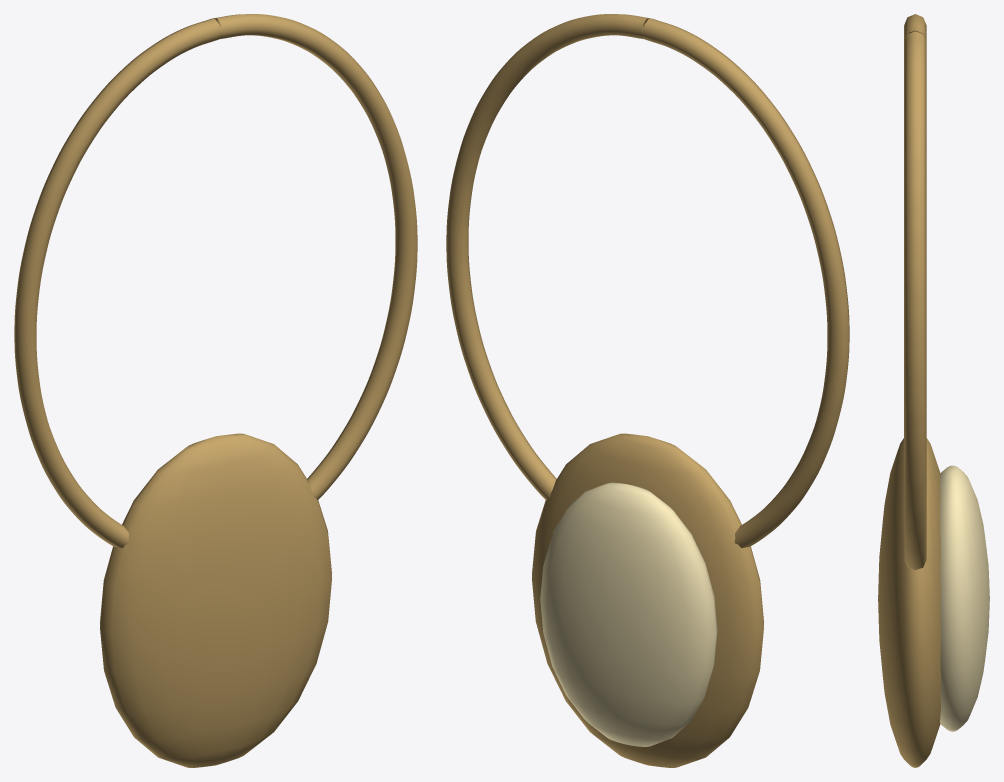
The model's file is sunstone_pendant.glb.
3 renders of one model, left to right at view 1: azimuth 30°, elevation 25°; view 2: azimuth 150°, elevation 25°; view 3: azimuth 270°, elevation 25°, orthographic. The views are drawn at different scales.
Visible parts, largest first — view 1: Engraved bezel, Pendant chain; view 2: Cut gemstone, Pendant chain, Engraved bezel; view 3: Engraved bezel, Pendant chain, Cut gemstone.
Part boxes in pixels (x1=…): Engraved bezel: x1=100, y1=433, x2=331, y2=767; Pendant chain: x1=14, y1=14, x2=417, y2=548; Cut gemstone: x1=540, y1=482, x2=717, y2=746; Pendant chain: x1=446, y1=14, x2=849, y2=548; Engraved bezel: x1=532, y1=433, x2=763, y2=767; Engraved bezel: x1=878, y1=438, x2=940, y2=767; Pendant chain: x1=904, y1=14, x2=926, y2=570; Cut gemstone: x1=940, y1=465, x2=989, y2=731.
Size of the model in its own units: 0.484 by 0.8619 by 0.12.
